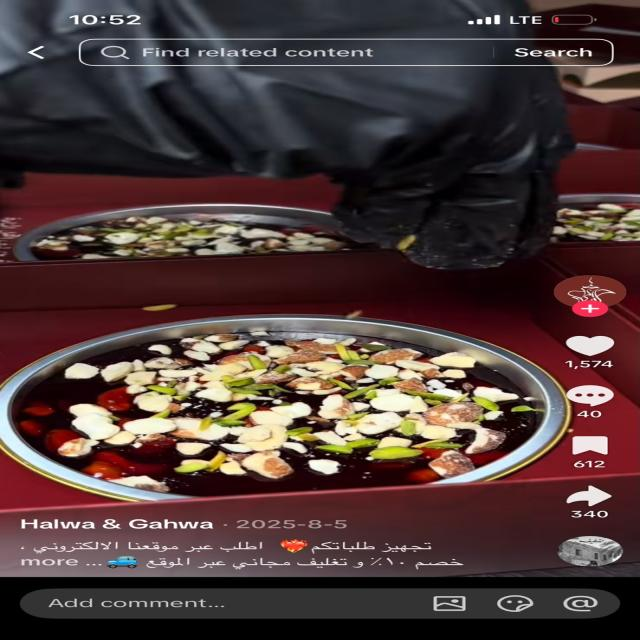Halwa: (0, 172, 640, 500)
